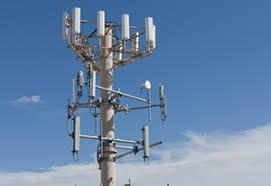Microwave Antenna: (138, 79, 155, 93)
antenna: (93, 7, 108, 39), (70, 115, 83, 151), (60, 9, 72, 40), (159, 84, 168, 123), (120, 12, 132, 41), (145, 11, 155, 45), (142, 123, 151, 159), (89, 68, 98, 100), (71, 6, 80, 36)
